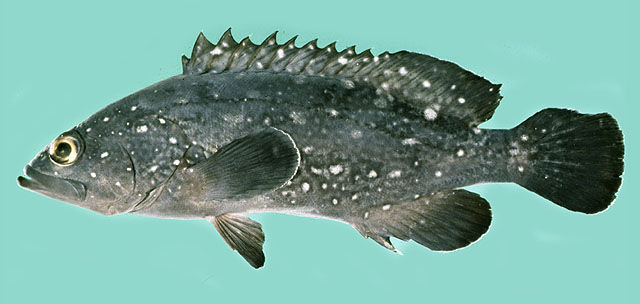fish: (16, 27, 625, 268)
